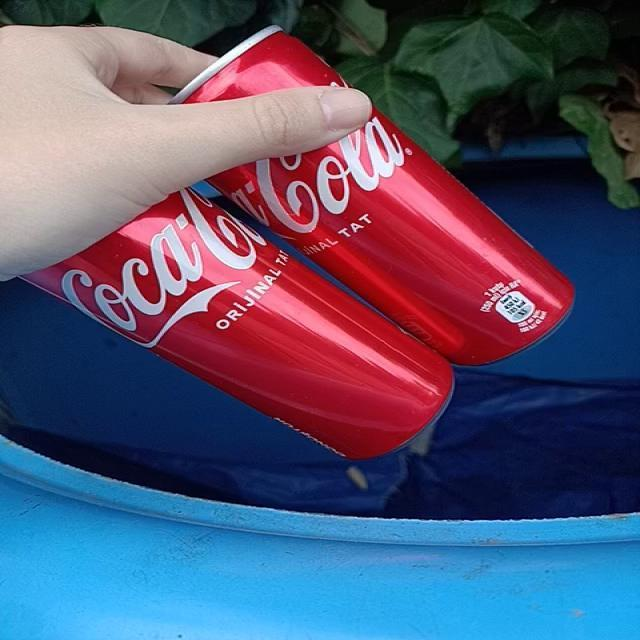Bin: (1, 140, 640, 640)
Metal: (24, 109, 575, 460), (172, 26, 345, 103)
